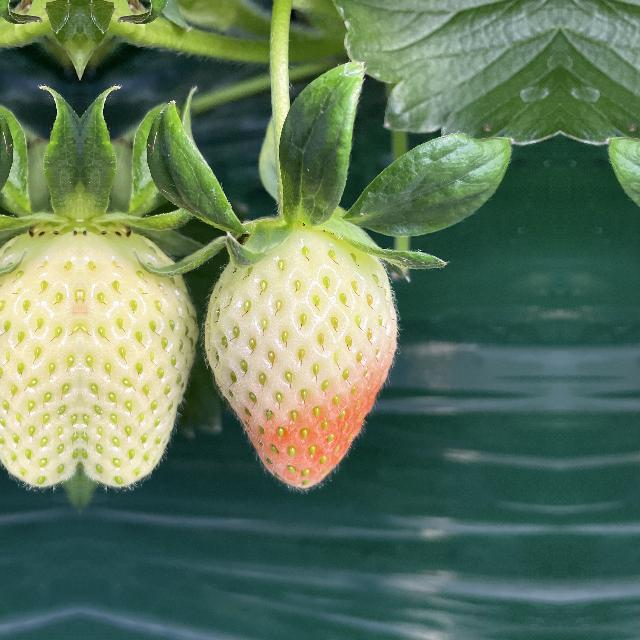Health_25: (80, 207, 200, 491), (0, 207, 80, 491)
Health_50: (197, 223, 403, 497)
